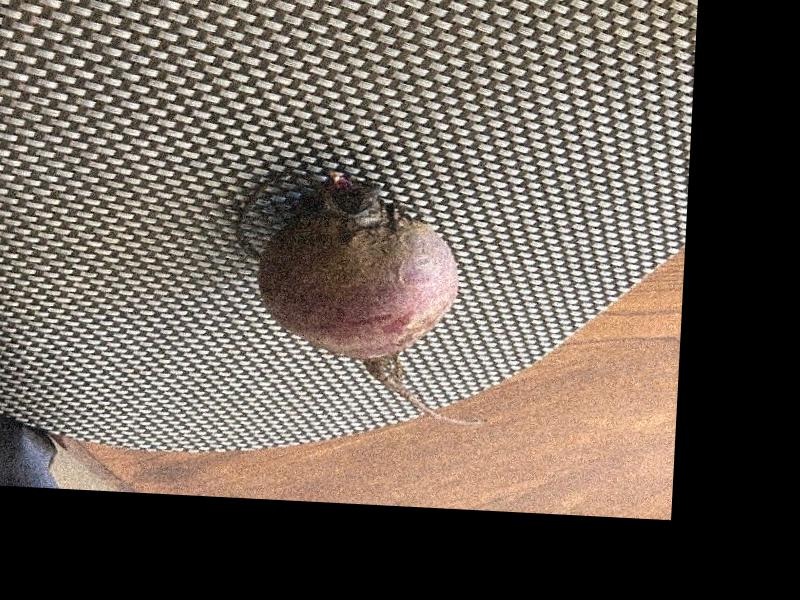Beet: (224, 166, 496, 425)
